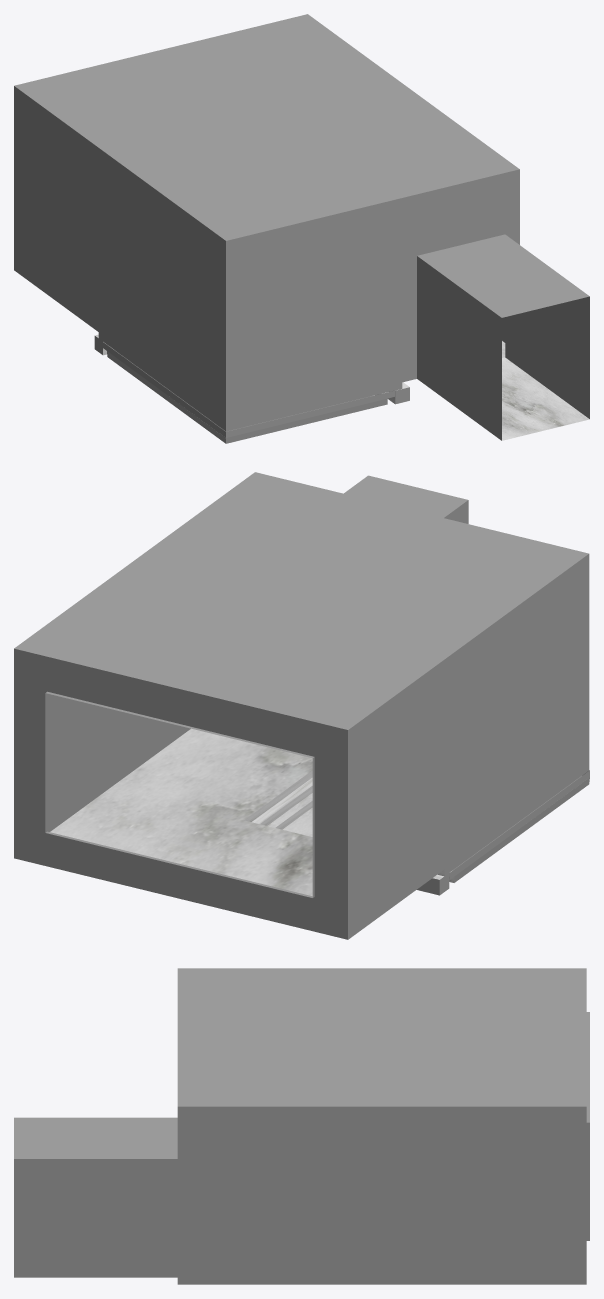
The model's file is smallWindowedFeature.fbx.
3 views of the same model, one above another, from view 1: azimuth 30°, elevation 25°; view 2: azimuth 150°, elevation 25°; view 3: azimuth 270°, elevation 25° (orthographic). The views are drawn at different scales.
Parts seen in each view (by area): view 1: pCube15; view 2: pCube15; view 3: pCube15.
Part boxes in pixels (x1,y1,x2,y2): pCube15: [14, 14, 589, 443]; pCube15: [14, 472, 589, 939]; pCube15: [14, 968, 589, 1284].
Bounding box in the file's own units: 20.03 × 13.3 × 35.2.
Materials: 3 (1 with a texture image).
